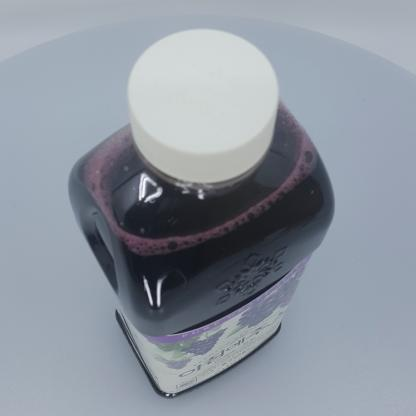------------950ML: (67, 29, 335, 400)
